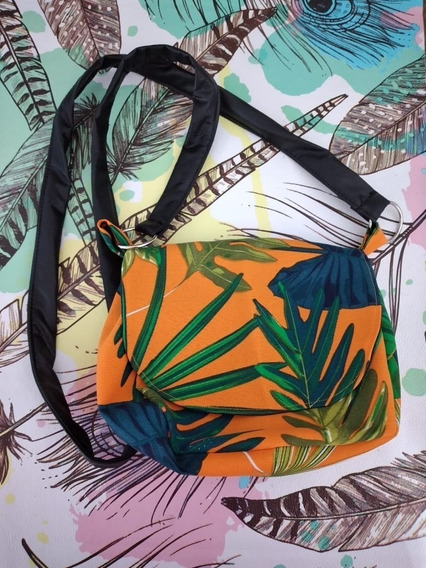cartera: (92, 219, 403, 478)
